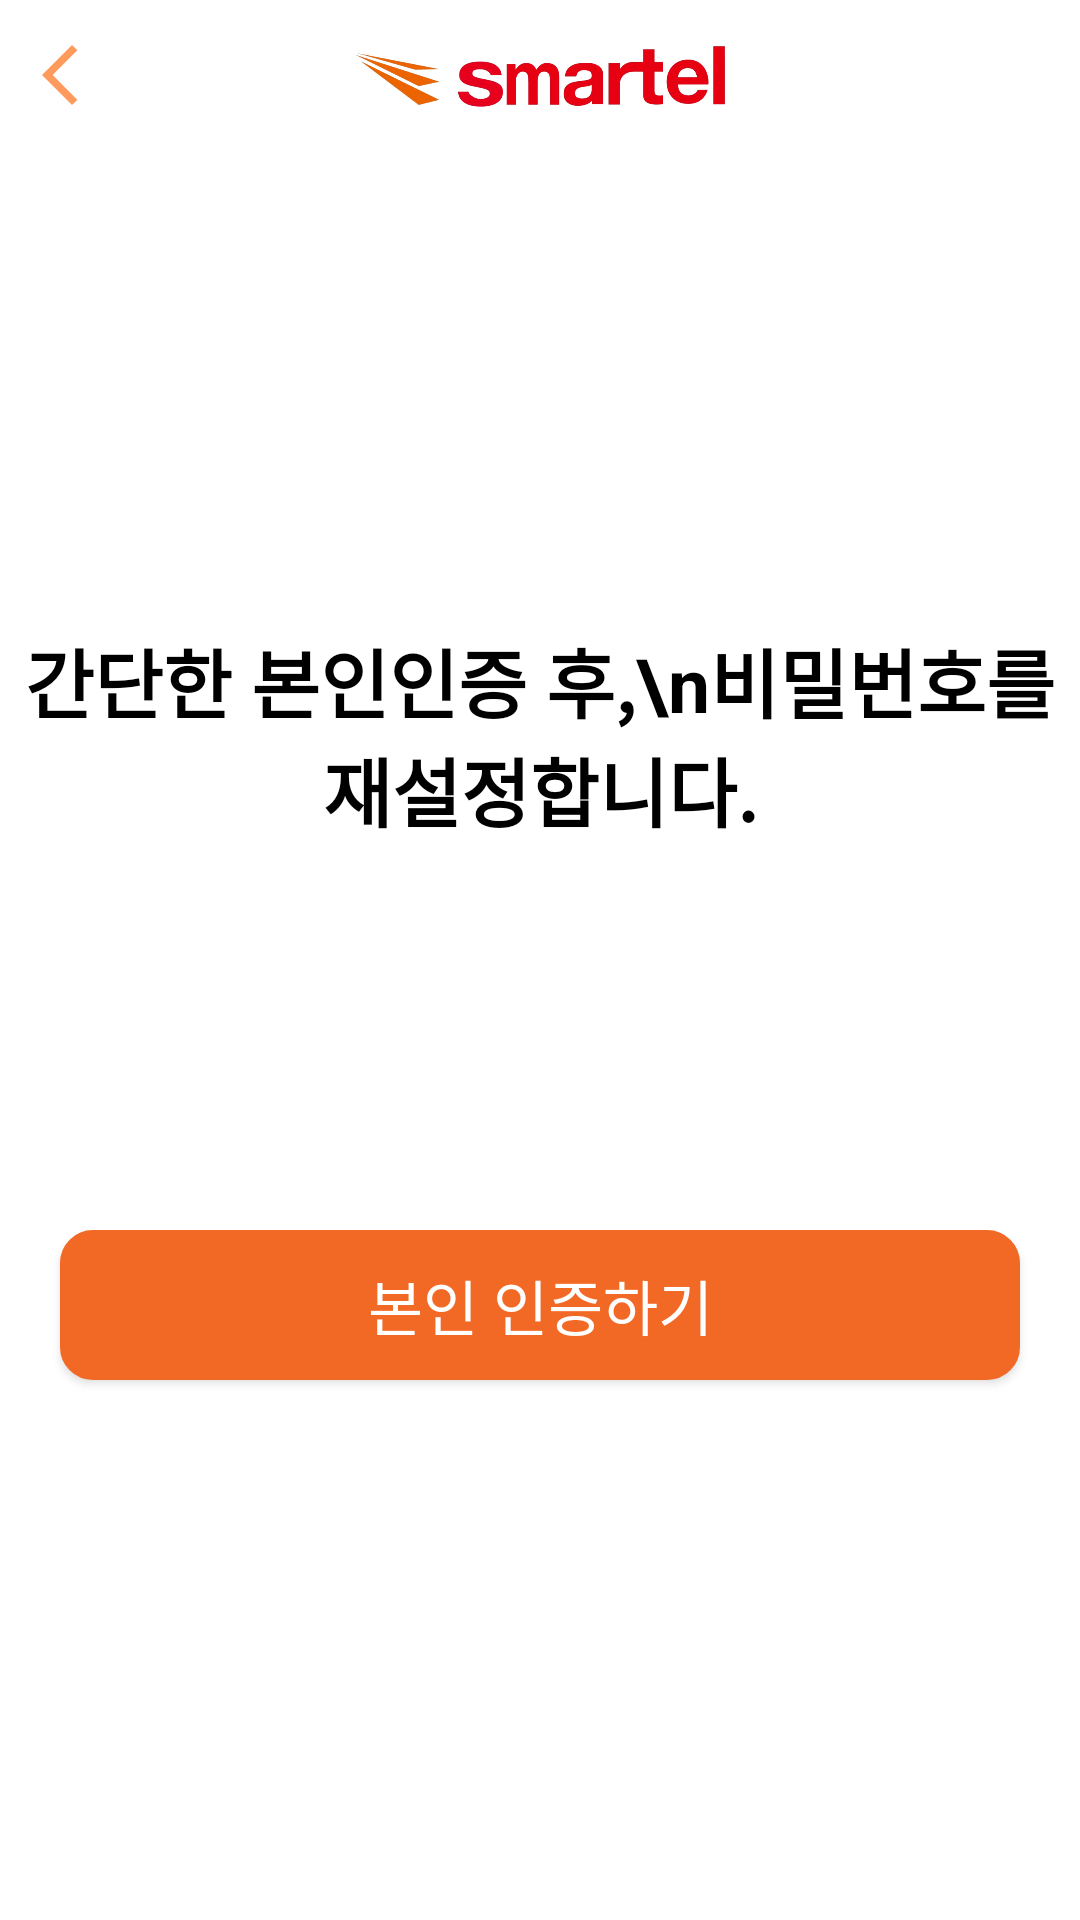

Icons on this 1080 x 1920 Android screen, each with its box as (x1, y1, x2, y2):
arrow back: (42, 45, 77, 105)
